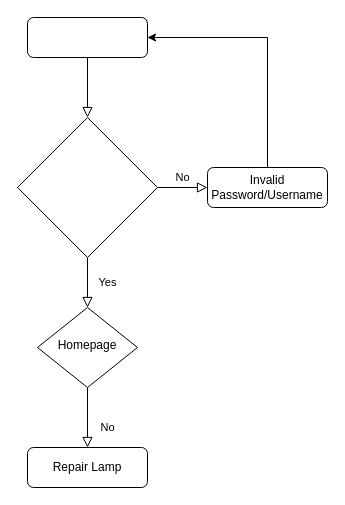
Some shapes in this 345 by 505 pixel diagram are drawn without their labels. The centre of each missing label's shape, as x and y in pixels:
"Client Enters Username and Password" goes at point (87, 187).
"Login" goes at point (87, 37).
